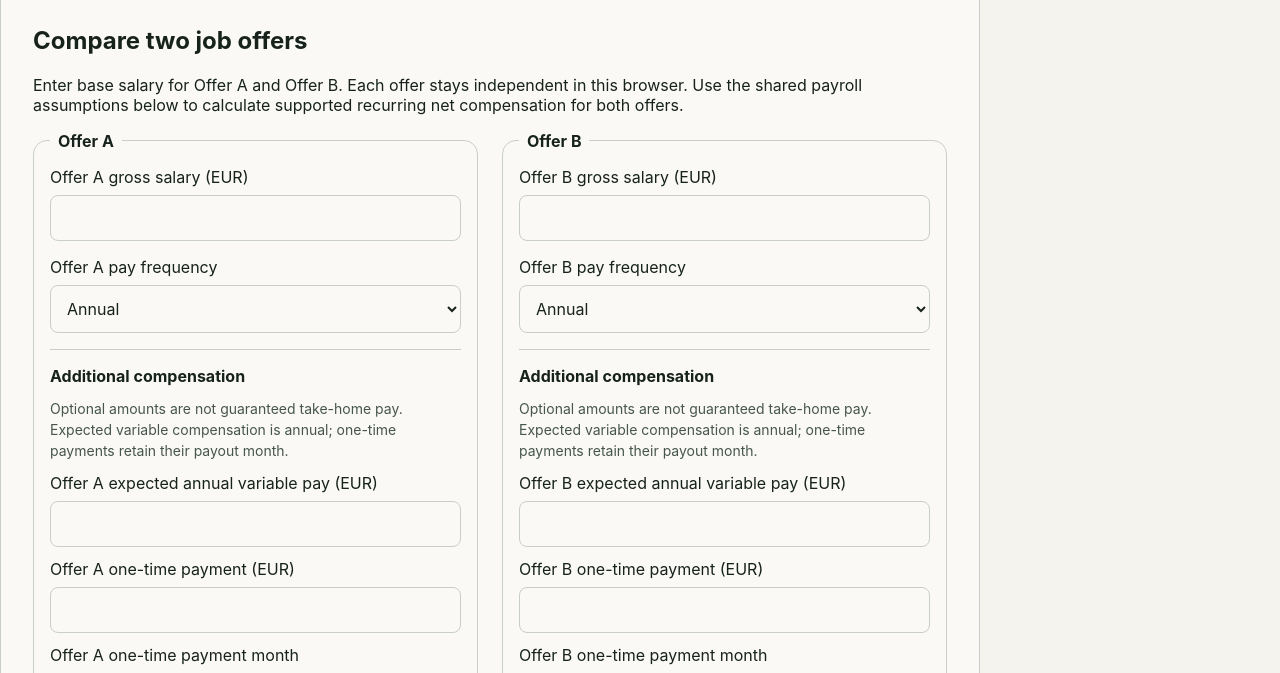
Test: NP-CMP-002 offer salary inputs › copies and clears optional variable and one-time compensation independently
Type "4500.50" into the field labelled "Offer A expected annual variable pay (EUR)". click: (256, 524)
box: [50,501,461,547]
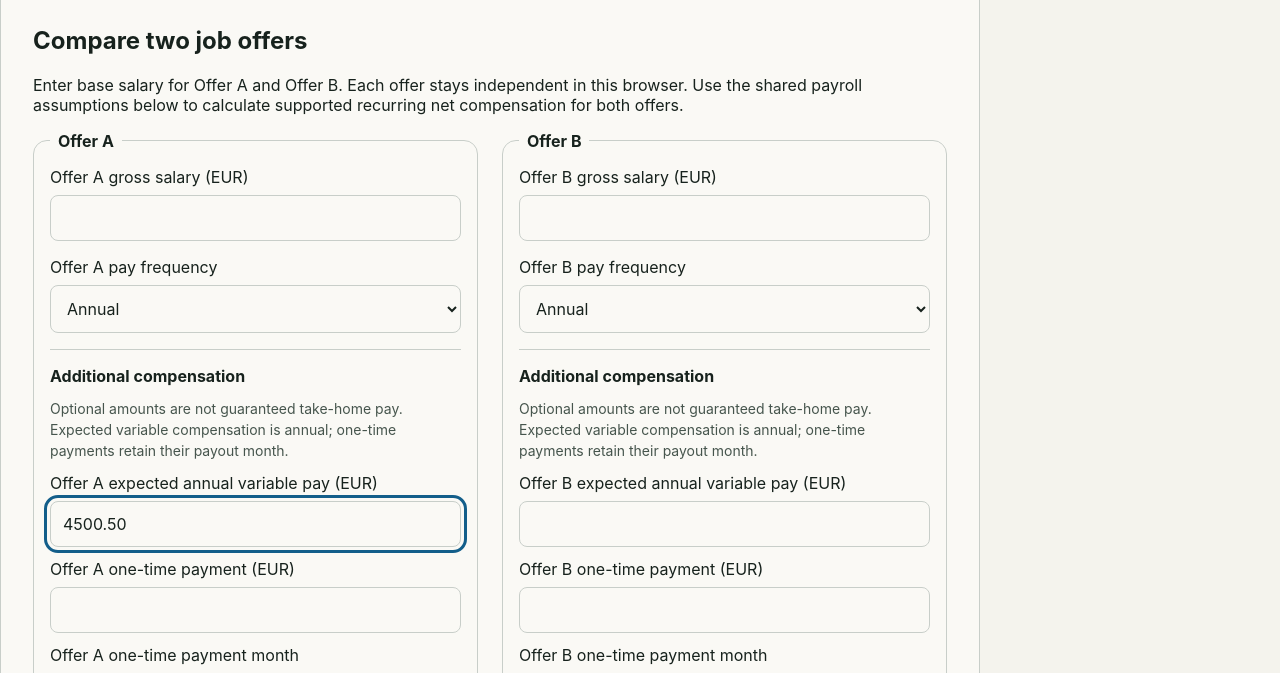
Type "1000" into the field labelled "Offer A one-time payment (EUR)". click: (256, 610)
box: [50,587,461,633]
(page scrolled)
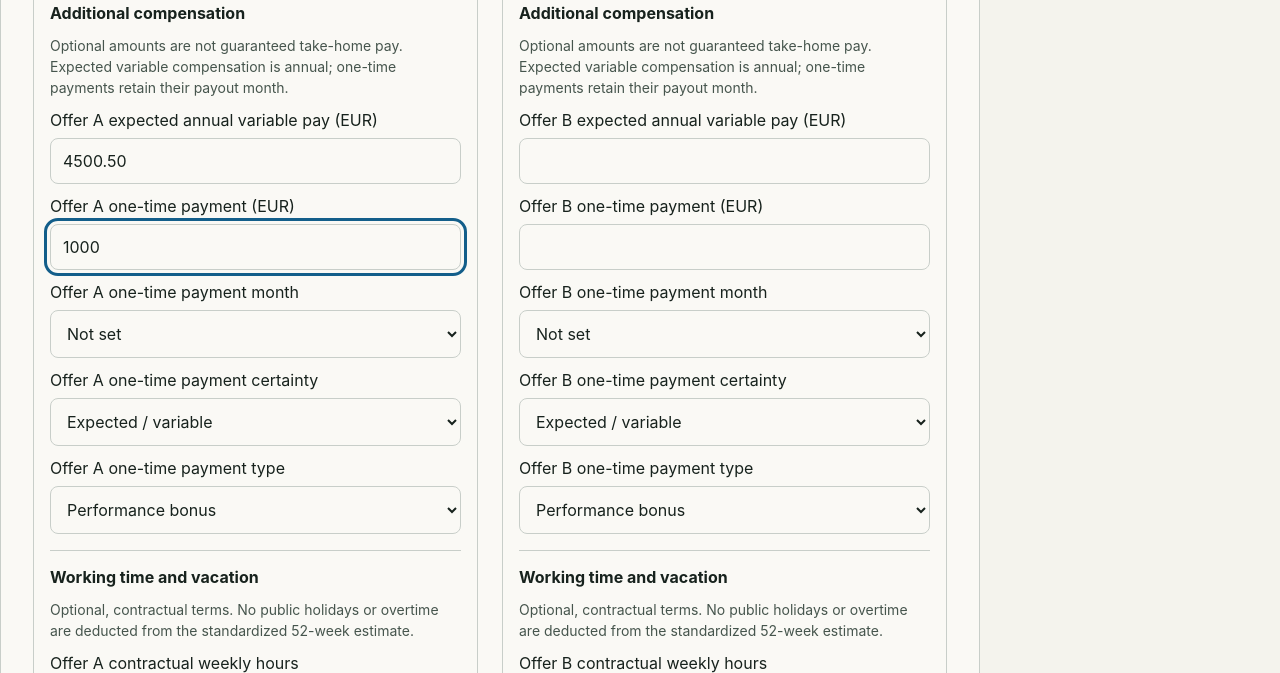
Select "Month 12" in the dropdown labelled "Offer A one-time payment month". click: (256, 334)
box: [50,310,461,358]
(page scrolled)
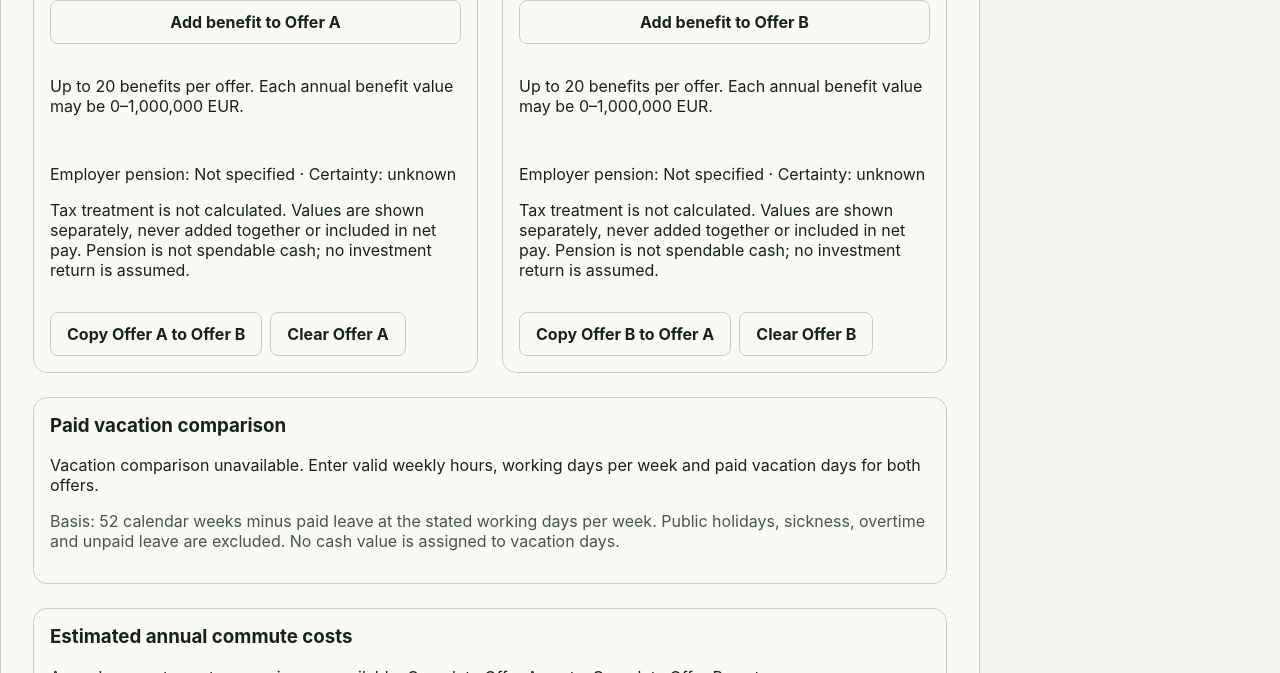
Click the button "Copy Offer A to Offer B". click: (156, 334)
box: [50,312,262,356]
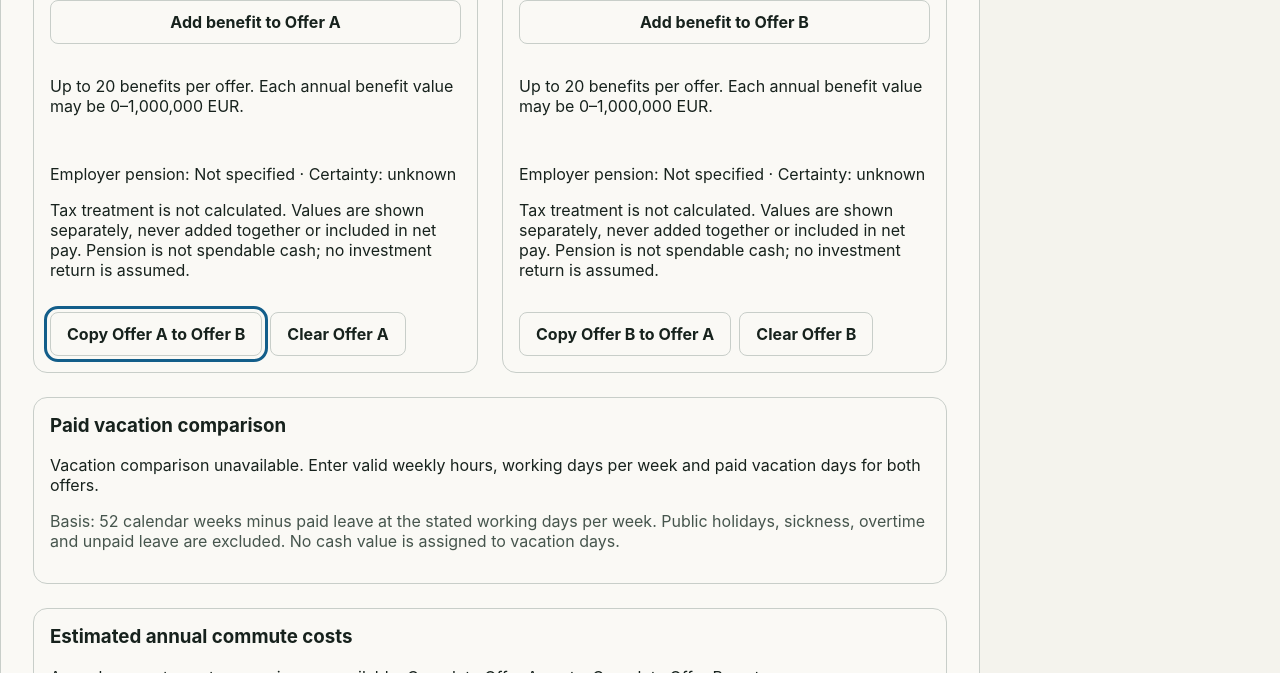
Click the button "Clear Offer B". click: (806, 334)
box: [739,312,873,356]
(page scrolled)
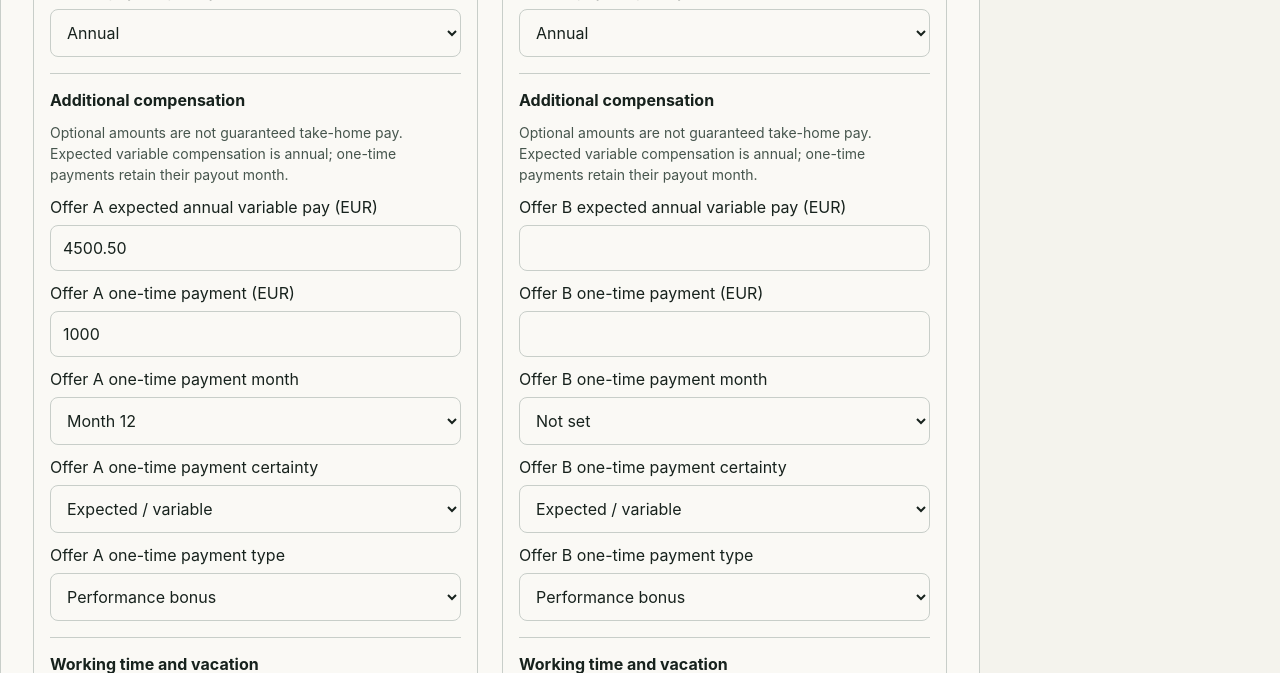
Result: the field labelled "Offer B one-time payment (EUR)" is empty at [519,311,930,357]
